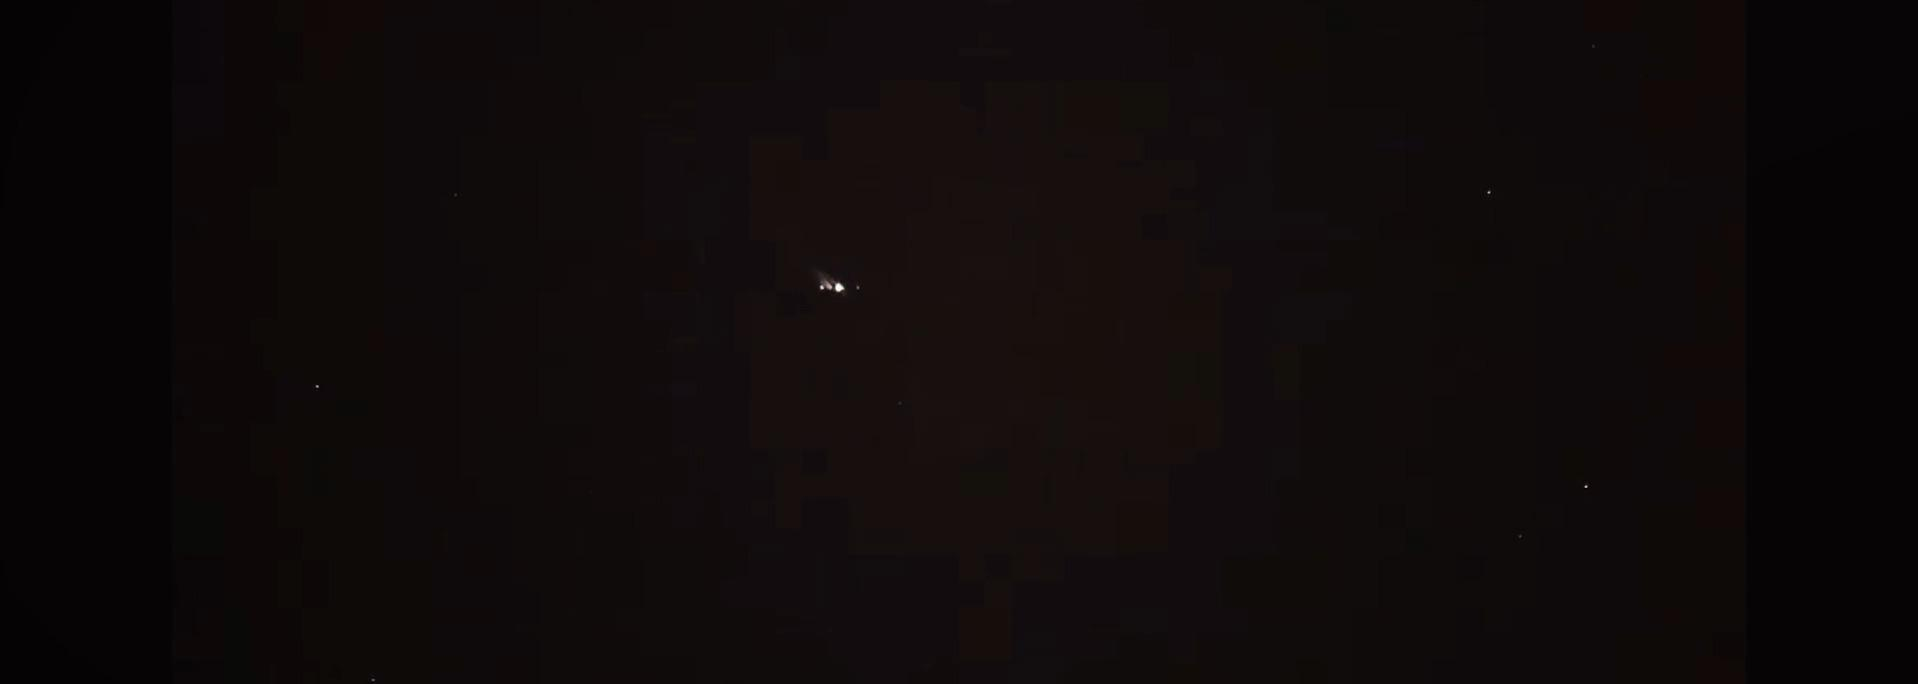Plane: (776, 261, 891, 305)
